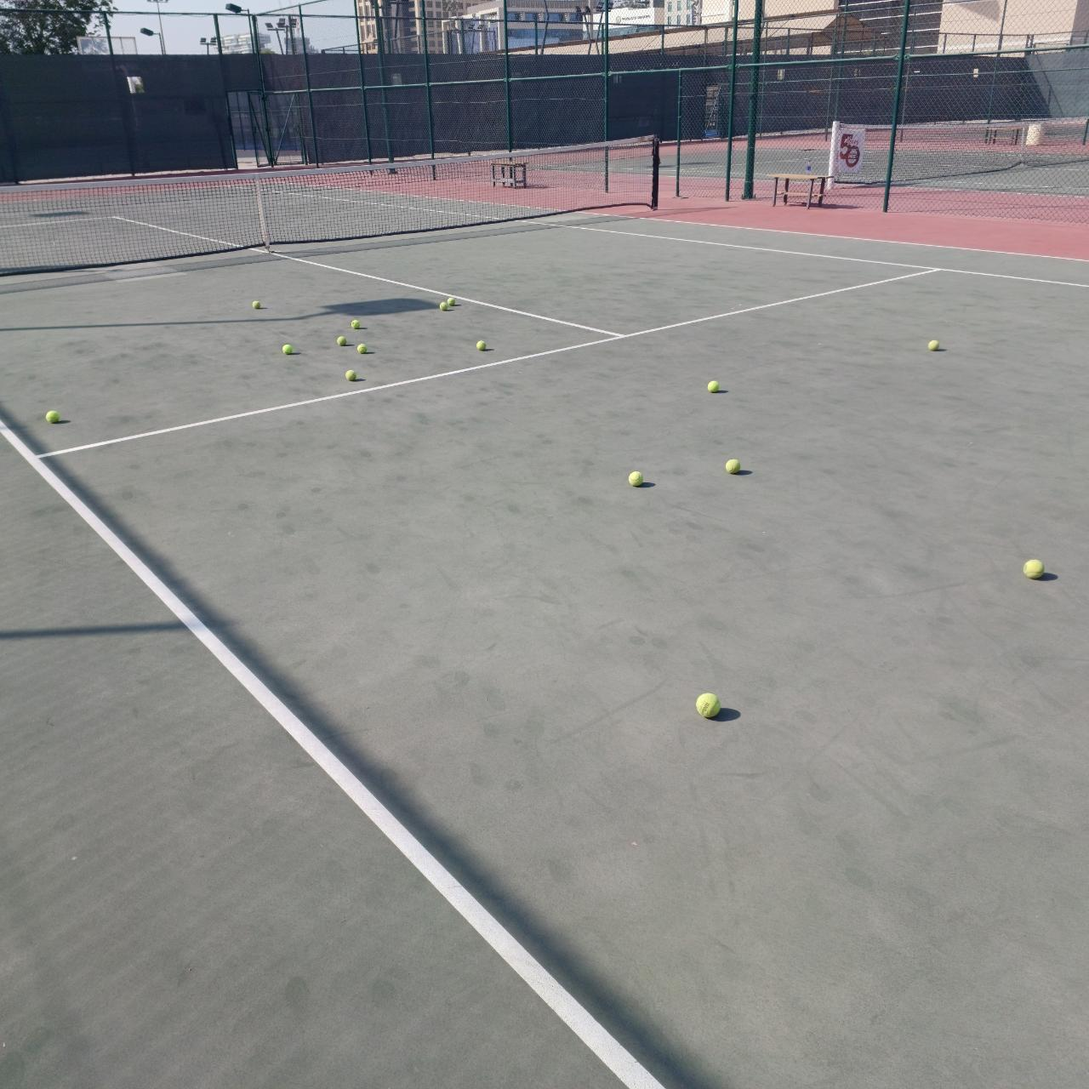tennis-ball: (694, 690, 720, 718), (1022, 556, 1043, 578), (626, 469, 642, 486), (723, 456, 739, 473), (44, 408, 59, 423), (926, 337, 939, 351), (280, 341, 293, 355), (705, 379, 718, 391), (356, 341, 368, 354), (344, 368, 356, 380), (475, 337, 486, 350), (249, 298, 260, 310), (336, 336, 347, 347), (350, 319, 360, 330), (446, 297, 457, 306), (439, 301, 448, 311)
